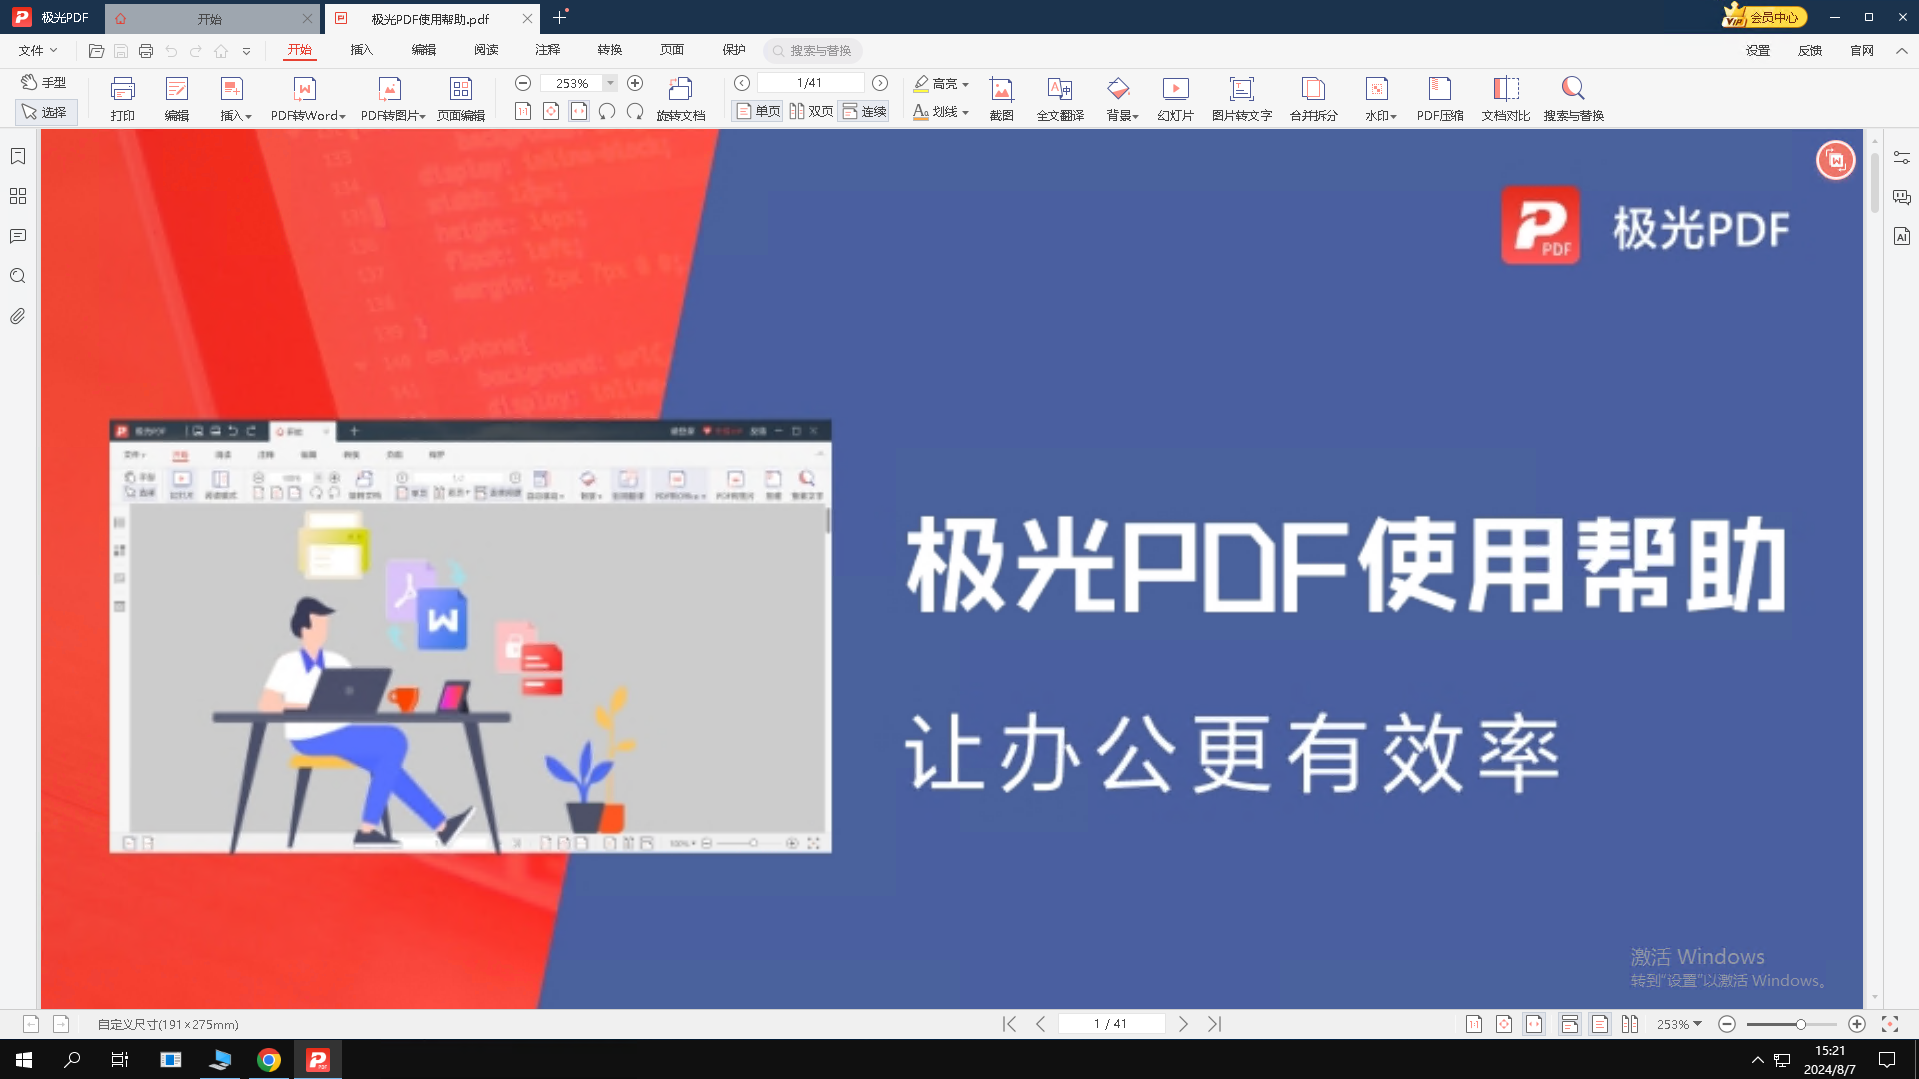Clickable: (1342, 65, 1412, 142), (262, 75, 355, 130), (351, 71, 432, 133), (1470, 70, 1535, 144), (1033, 55, 1091, 138), (1535, 67, 1609, 132), (971, 63, 1035, 136), (647, 74, 720, 136), (758, 32, 878, 69), (1284, 66, 1352, 130), (1210, 62, 1271, 129), (884, 91, 981, 132), (1101, 61, 1156, 130), (1412, 69, 1467, 138), (1153, 63, 1209, 132), (430, 71, 493, 126), (152, 69, 204, 132), (1808, 128, 1861, 190), (725, 95, 793, 138), (908, 61, 978, 101), (94, 71, 145, 126), (7, 94, 83, 129), (206, 70, 256, 121), (3, 37, 69, 69), (335, 38, 395, 72), (702, 34, 764, 67), (1727, 38, 1786, 72), (11, 69, 80, 97), (1647, 1009, 1709, 1041), (1869, 180, 1919, 219), (836, 96, 894, 128), (459, 36, 514, 69), (401, 36, 453, 70), (585, 32, 641, 63), (644, 36, 697, 69), (521, 42, 580, 71), (1796, 33, 1850, 65), (1702, 1000, 1740, 1043), (787, 99, 838, 130), (985, 1005, 1023, 1046), (1450, 1010, 1491, 1047), (1, 296, 37, 337), (1, 253, 37, 292), (46, 1008, 84, 1043), (1, 130, 32, 174), (1613, 1010, 1649, 1047), (1840, 34, 1878, 69), (1883, 134, 1916, 174), (7, 175, 38, 216), (1195, 1008, 1236, 1039), (1876, 223, 1919, 252), (277, 41, 322, 69), (561, 101, 597, 134), (1520, 1013, 1553, 1047), (1586, 1009, 1618, 1043), (617, 96, 651, 128), (587, 96, 622, 126), (721, 71, 758, 99), (1874, 1010, 1908, 1039), (1023, 1012, 1054, 1042), (536, 94, 565, 126), (74, 38, 109, 65), (1, 220, 36, 246), (1558, 1010, 1588, 1039), (861, 74, 898, 97), (1166, 1009, 1195, 1038), (133, 40, 161, 70), (18, 1010, 45, 1042), (1847, 1010, 1872, 1042), (590, 70, 621, 95), (619, 69, 646, 96), (507, 97, 534, 124), (510, 71, 538, 94)
Root: (1, 34, 1919, 1038)
Scrollable: (1744, 1007, 1843, 1039)
level_0: (40, 129, 1872, 1007), (1, 34, 1916, 126), (1, 1008, 1916, 1039), (1872, 126, 1919, 1013), (1, 125, 38, 1010)
